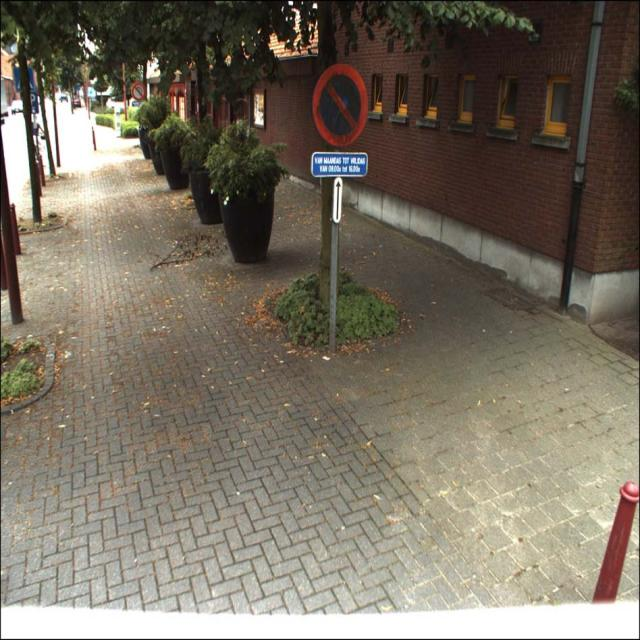parkyasak: (312, 64, 369, 148)
